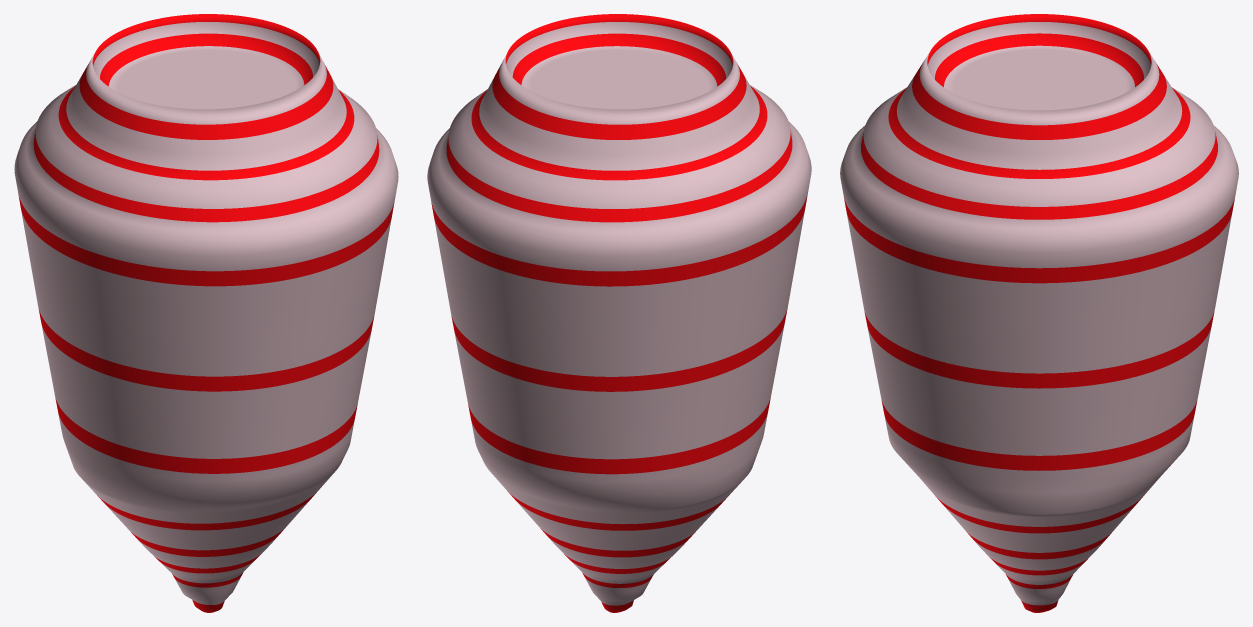
Rendered from body-r.gltf.
3 views of the same model, side by side, from view 1: azimuth 30°, elevation 25°; view 2: azimuth 150°, elevation 25°; view 3: azimuth 270°, elevation 25° (orthographic).
Visible parts, largest first — view 1: Cylinder; view 2: Cylinder; view 3: Cylinder.
Part boxes in pixels (x1,y1,x2,y2): Cylinder: [14, 14, 398, 612]; Cylinder: [427, 14, 811, 612]; Cylinder: [840, 14, 1238, 612].
Size of the model in its own units: 1.27 by 2.03 by 1.34.
